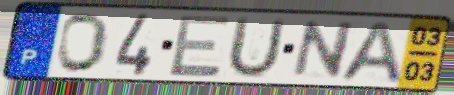4: (113, 11, 154, 79)
A: (335, 19, 406, 86)
E: (167, 13, 233, 79)
N: (288, 20, 357, 80)
O: (54, 11, 112, 75)
U: (222, 15, 288, 81)
